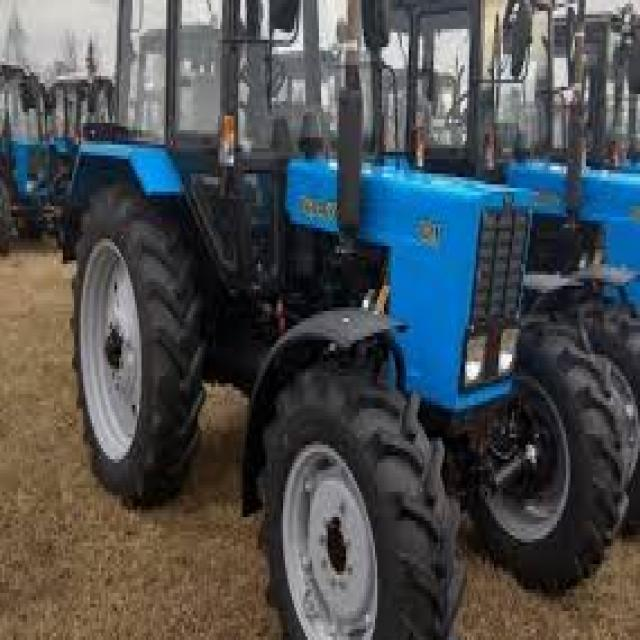Tratores - v5 YOLO V8L 2024-11-13: (71, 0, 624, 640), (550, 0, 640, 271), (0, 61, 54, 252)
